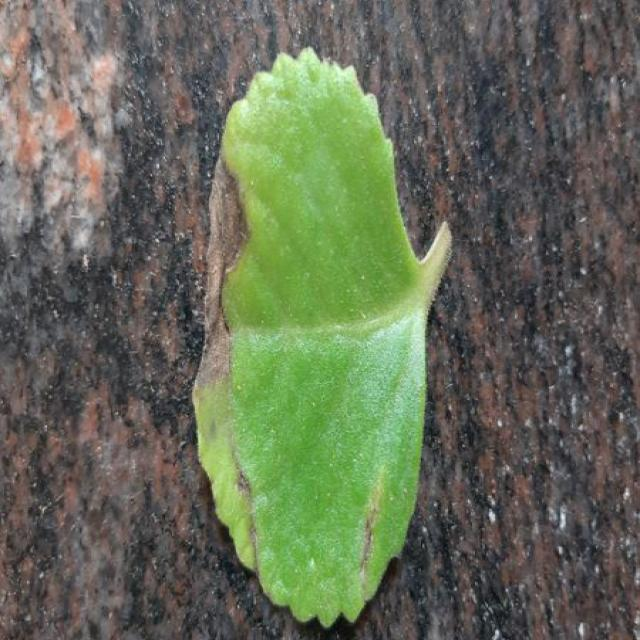doddpathre: (193, 50, 452, 626)
